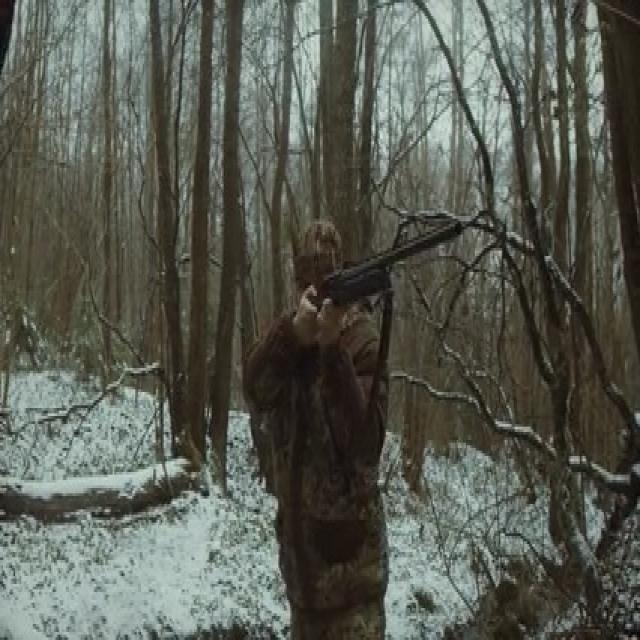Gun_Holder: (274, 218, 491, 348)
Person: (243, 205, 388, 640)
